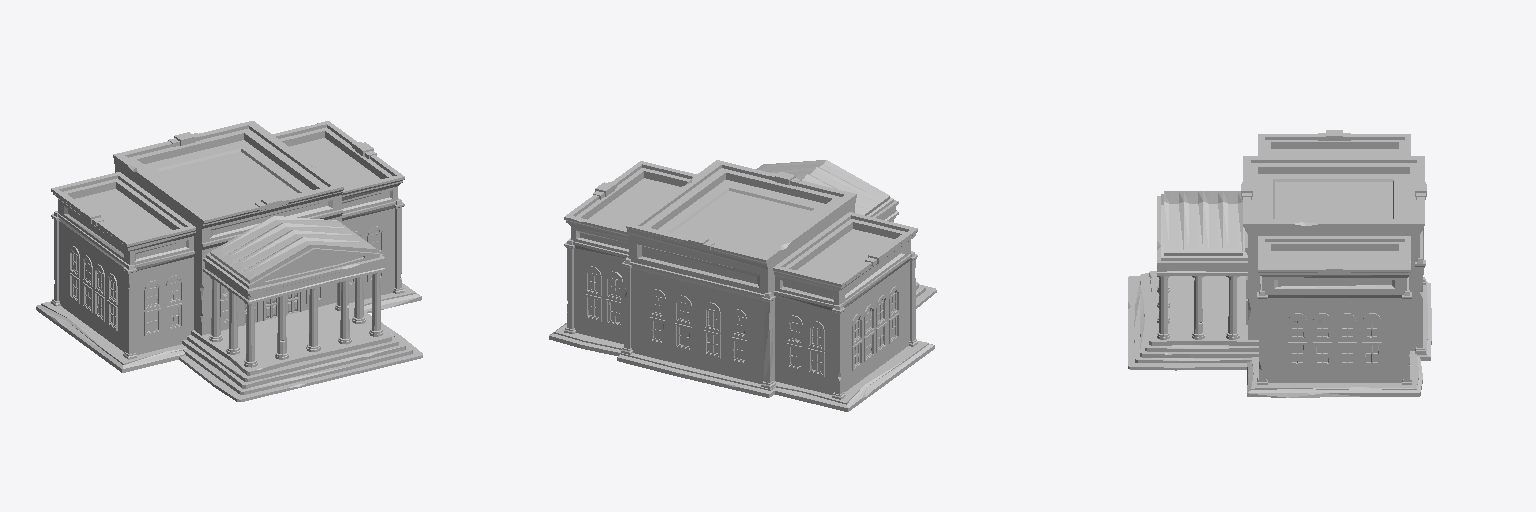
The model's file is bank.obj.
3 views of the same model, side by side, from view 1: azimuth 30°, elevation 25°; view 2: azimuth 150°, elevation 25°; view 3: azimuth 270°, elevation 25° (orthographic).
Parts seen in each view (by area): view 1: SM_Bld_CityHall_01_Mesh.006; view 2: SM_Bld_CityHall_01_Mesh.006; view 3: SM_Bld_CityHall_01_Mesh.006.
Boxes of the visible parts, x1,y1,x2,y2 form: SM_Bld_CityHall_01_Mesh.006: [36, 121, 422, 401]; SM_Bld_CityHall_01_Mesh.006: [549, 160, 936, 411]; SM_Bld_CityHall_01_Mesh.006: [1128, 130, 1431, 397].
Bounding box in the file's own units: 30.13 × 13.12 × 26.45.